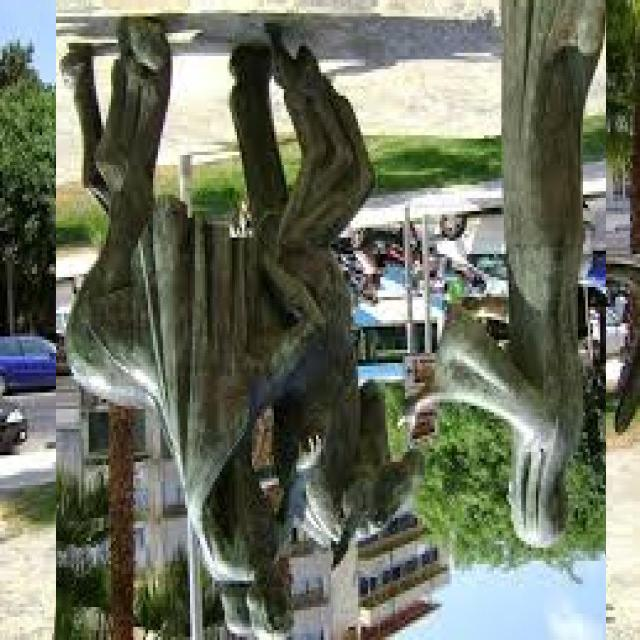Aretousa: (57, 1, 607, 640)
